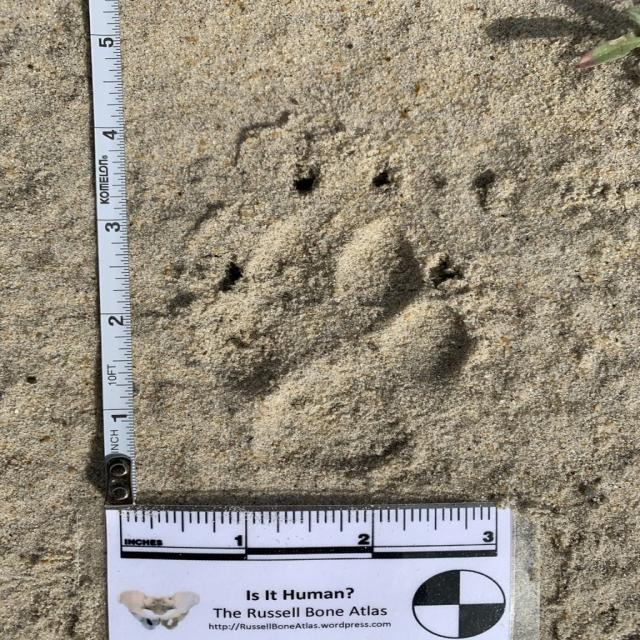canid: (198, 228, 480, 478)
